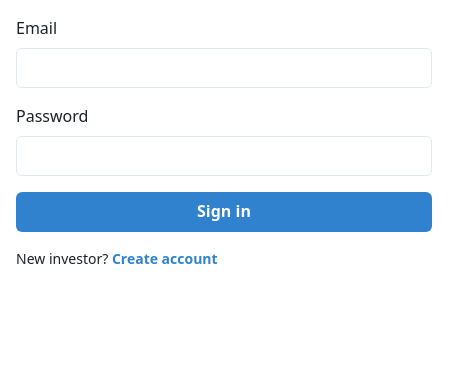
Scenario: sign in and create account › reports a taken email on create account
Step 1. Click the button "Create account" → (165, 258), box [112,249,218,268]
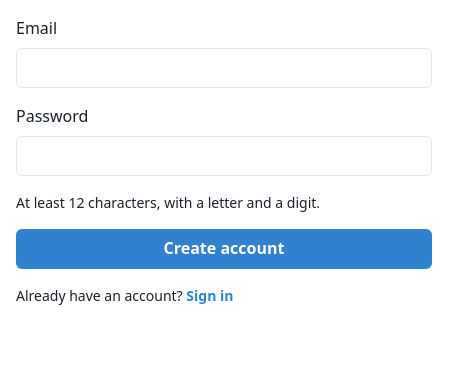
Step 2. Type "ana@example.com" into the field labelled "Email" → (224, 68), box [16,48,432,88]
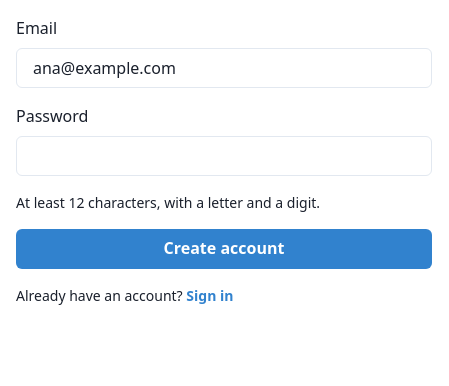
Step 3. Type "correct-horse-42" into the password field labelled "Password" → (224, 156), box [16,136,432,176]
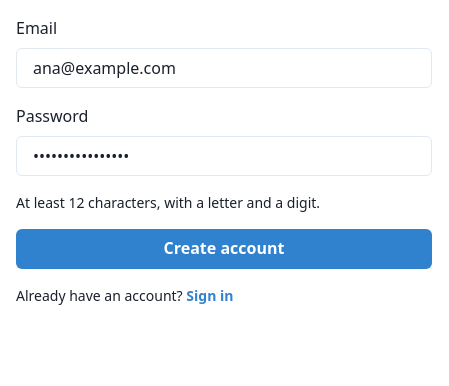
Step 4. Click the button "Create account" → (224, 249), box [16,229,432,269]
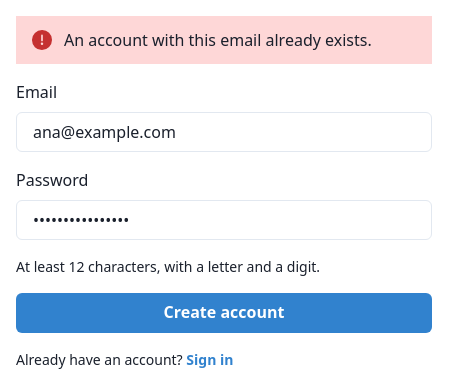
Now the text "An account with this email already exists." is shown, box [16,16,432,64]
